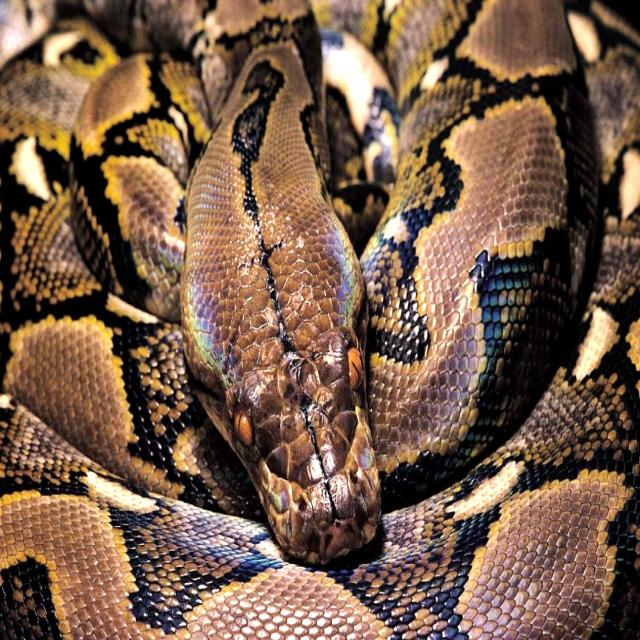Malayopython reticulatus: (0, 0, 639, 637)
snake: (0, 0, 639, 637)
